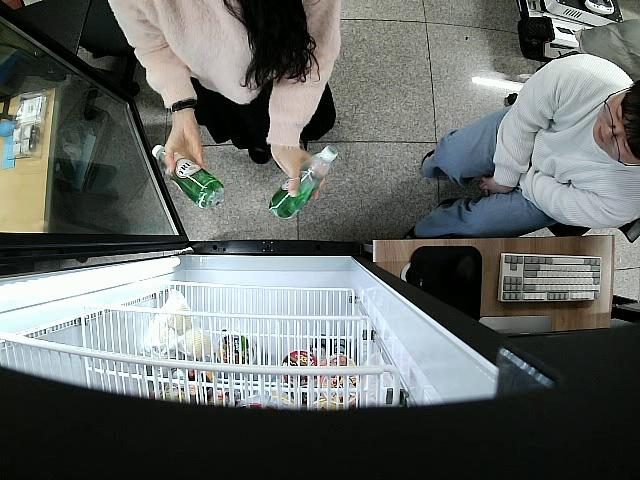00_hand: (272, 149, 325, 201), (164, 126, 203, 178)
18_trevi: (269, 145, 339, 221), (152, 143, 225, 209)
